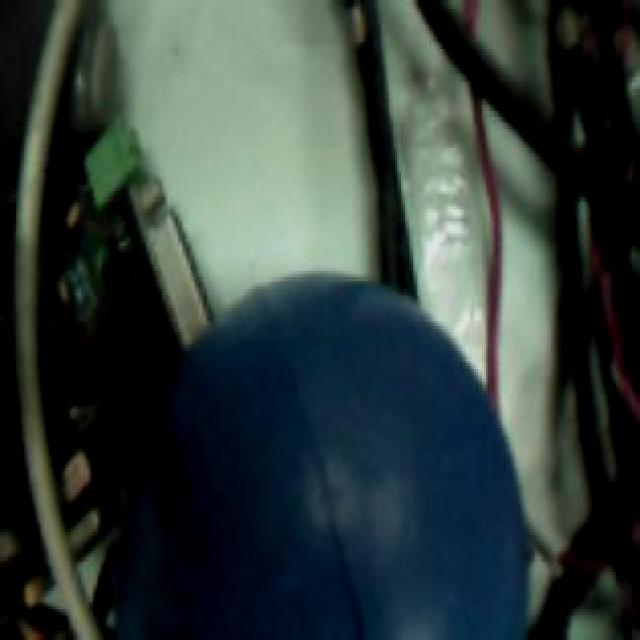BallPurple: (117, 267, 530, 640)
